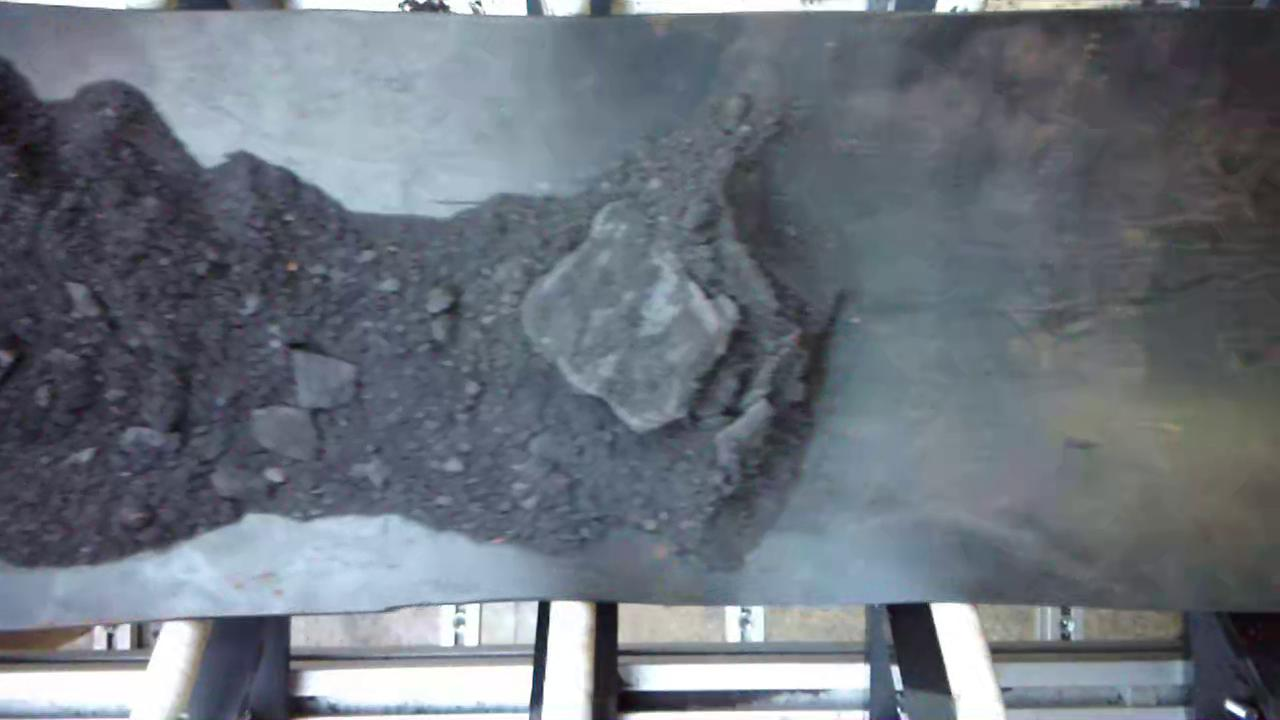conveyor: (9, 27, 1273, 593)
